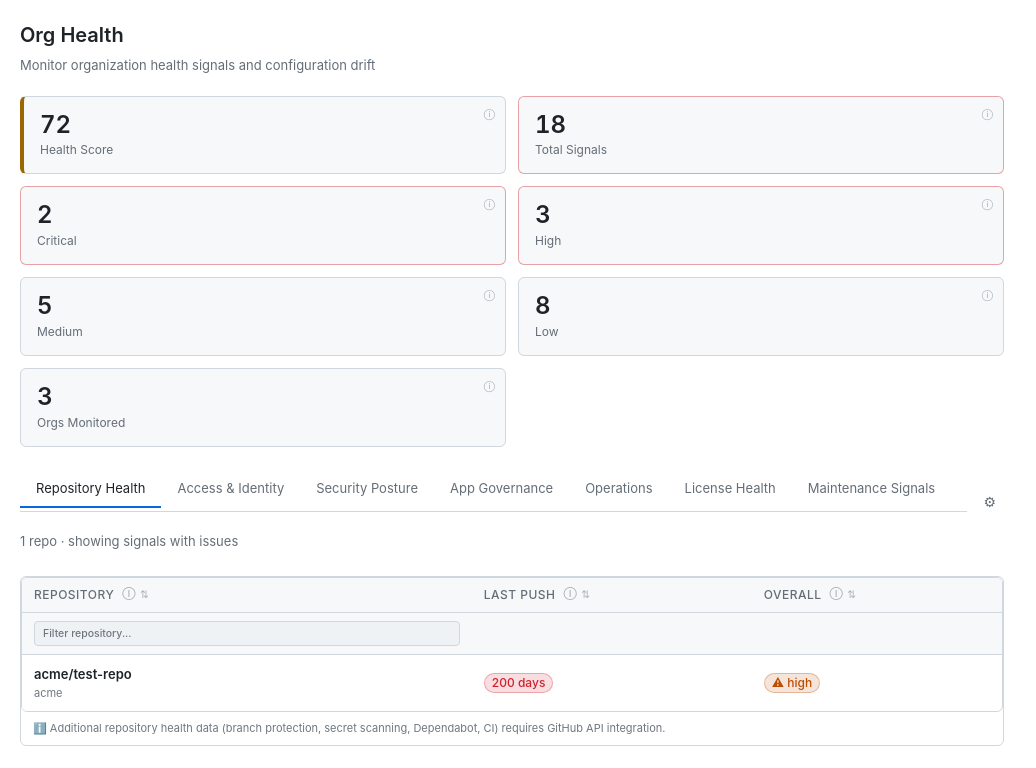
Test case: HealthPage › switches to App Governance tab
This screenshot has width=1036, height=768.
Click the tab "App Governance". click: (502, 489)
box: [434,471,569,508]
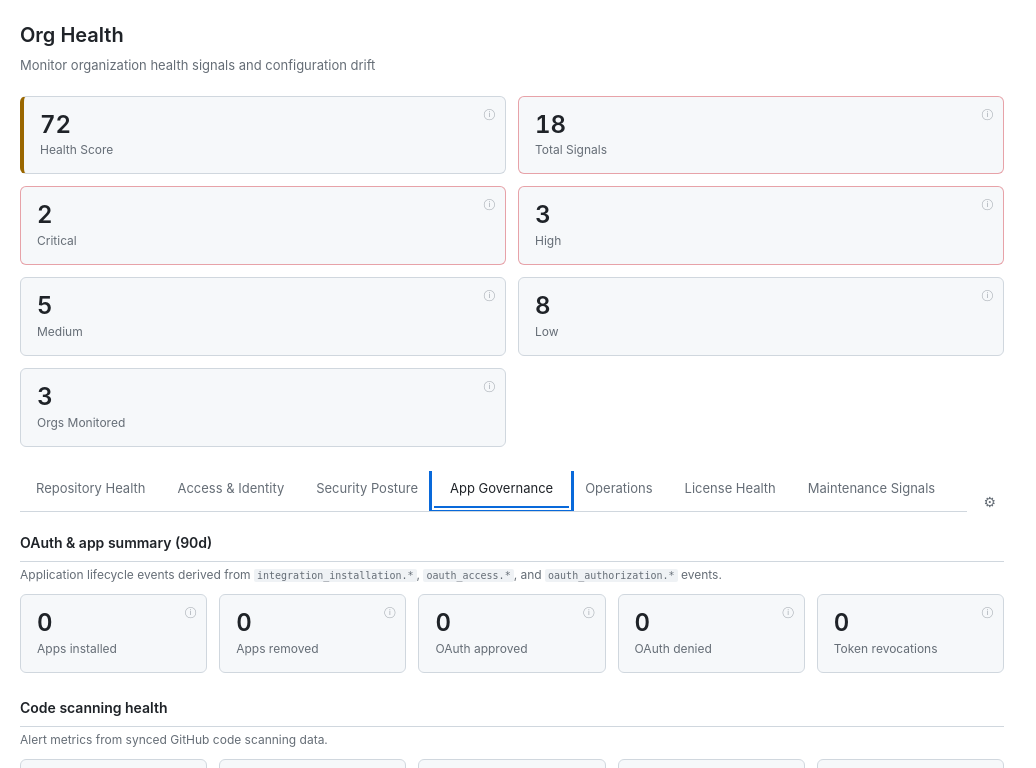
Now the text "OAuth & app summary (90d)" is shown, box [20,532,1004,562]
